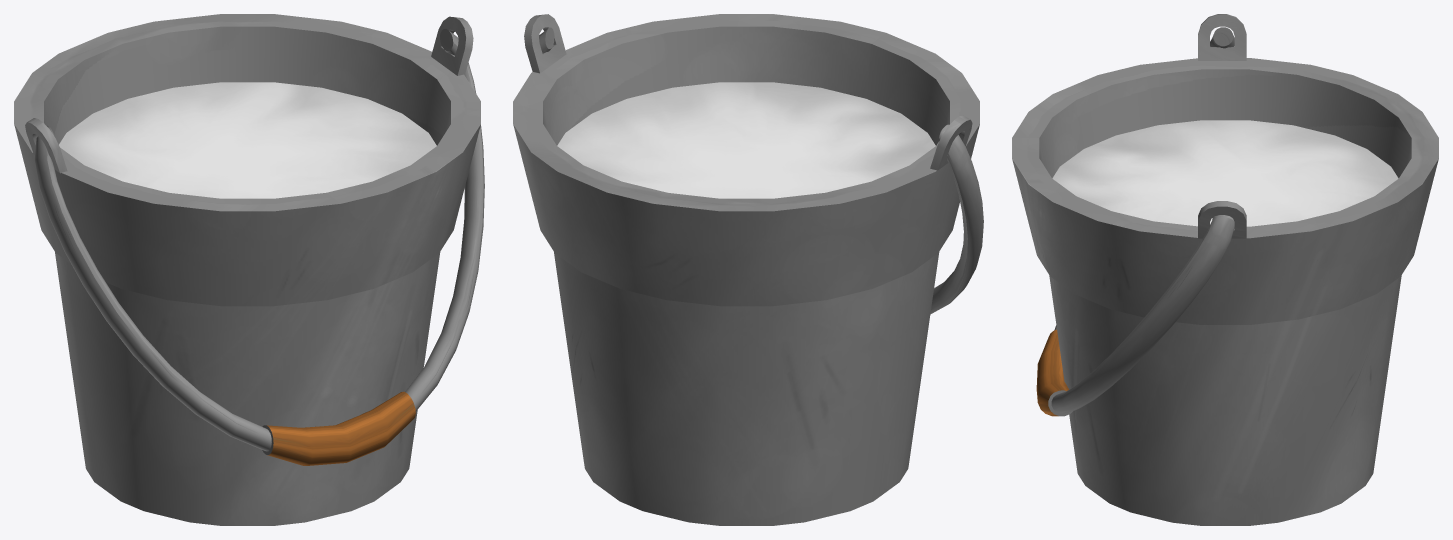
Rendered from model_baldeleite_02.fbx.
3 views of the same model, side by side, from view 1: azimuth 30°, elevation 25°; view 2: azimuth 150°, elevation 25°; view 3: azimuth 270°, elevation 25° (orthographic). The views are drawn at different scales.
Visible parts, largest first — view 1: Balde de Leite.001; view 2: Balde de Leite.001; view 3: Balde de Leite.001.
Boxes of the visible parts, x1,y1,x2,y2 form: Balde de Leite.001: (14, 14, 484, 525); Balde de Leite.001: (513, 14, 983, 525); Balde de Leite.001: (1012, 14, 1438, 525).
Size of the model in its own units: 0.6821 by 0.5876 by 0.6394.
1 material, 1 textured.
